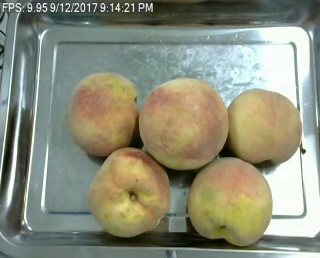Peach: (139, 77, 228, 169), (188, 157, 273, 246), (89, 147, 169, 237), (67, 71, 139, 158), (226, 88, 301, 165)
